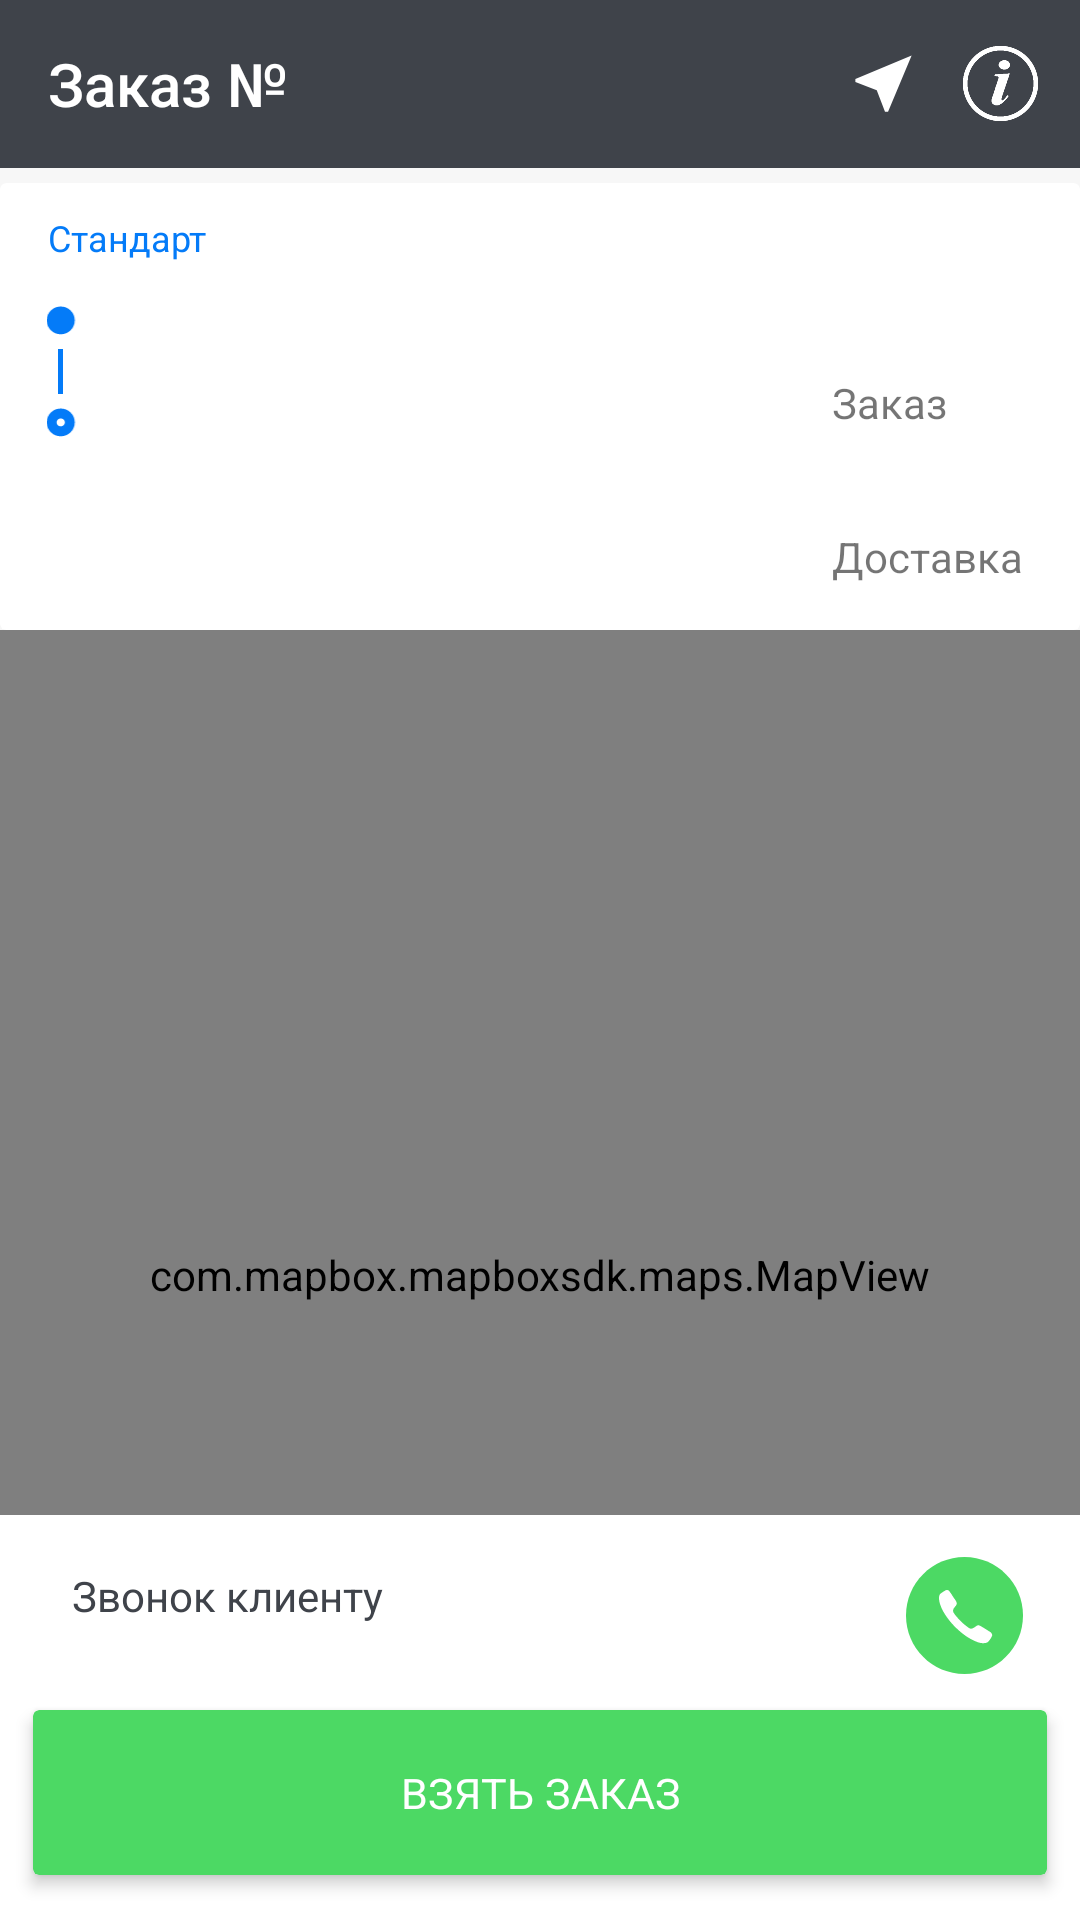

Where icons sit on this 1080px×1920px app screen, as (x1, y1, x2, y2):
call: (906, 1557, 1023, 1674)
end route point: (47, 408, 76, 437)
info: (963, 46, 1038, 121)
navigation: (855, 55, 912, 112)
